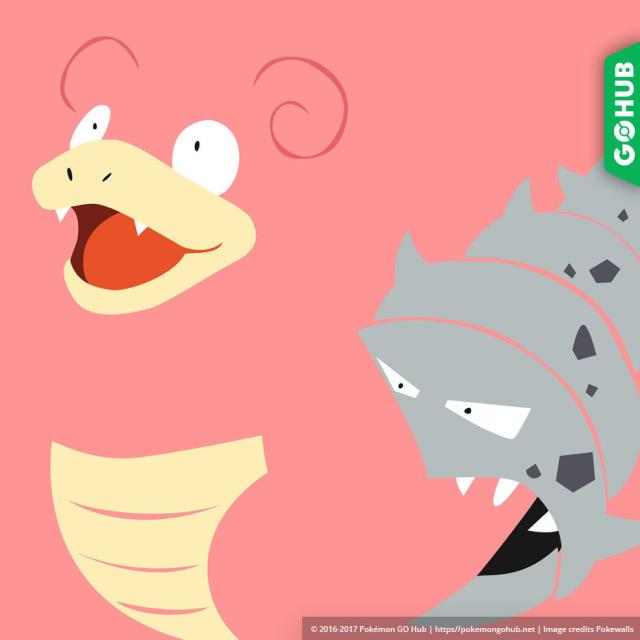Slowbro: (16, 42, 621, 640)
